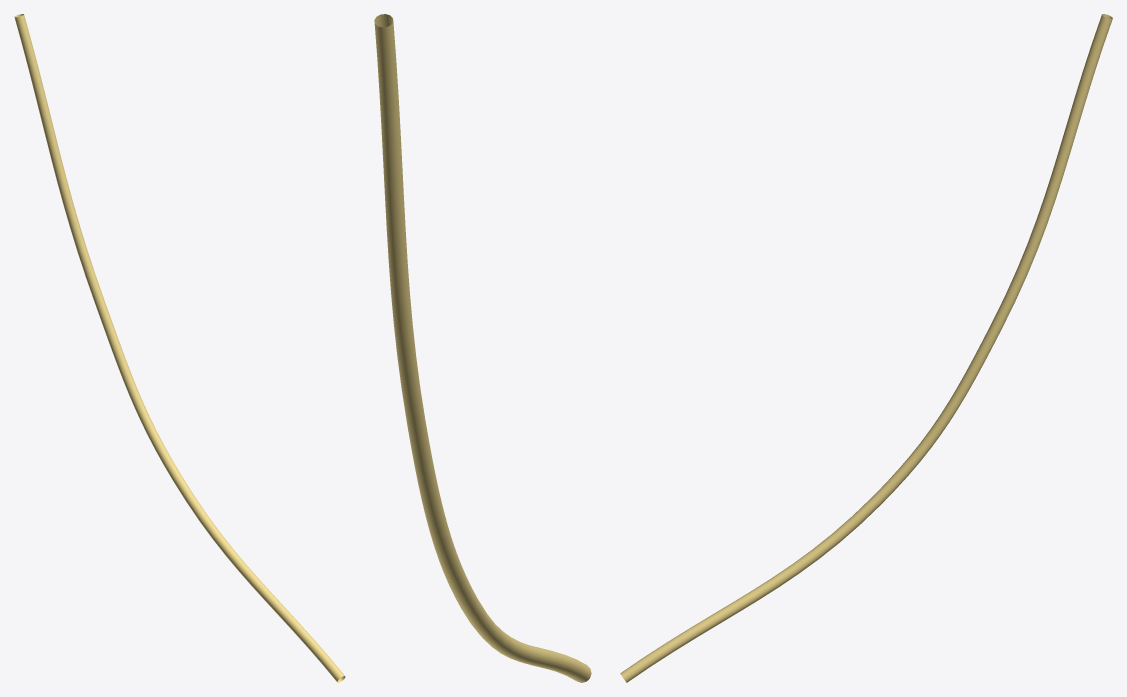
The picture shows the model from 3 angles, left to right: view 1: azimuth 30°, elevation 25°; view 2: azimuth 150°, elevation 25°; view 3: azimuth 270°, elevation 25°; orthographic projection. The views are drawn at different scales.
Parts seen in each view (by area): view 1: ZA_42e39e3414a98041; view 2: ZA_42e39e3414a98041; view 3: ZA_42e39e3414a98041.
Boxes of the visible parts, x1,y1,x2,y2 form: ZA_42e39e3414a98041: (14, 14, 345, 682); ZA_42e39e3414a98041: (374, 14, 591, 682); ZA_42e39e3414a98041: (620, 14, 1112, 682).
Size of the model in its own units: 0.013 by 0.0574 by 0.0421.
